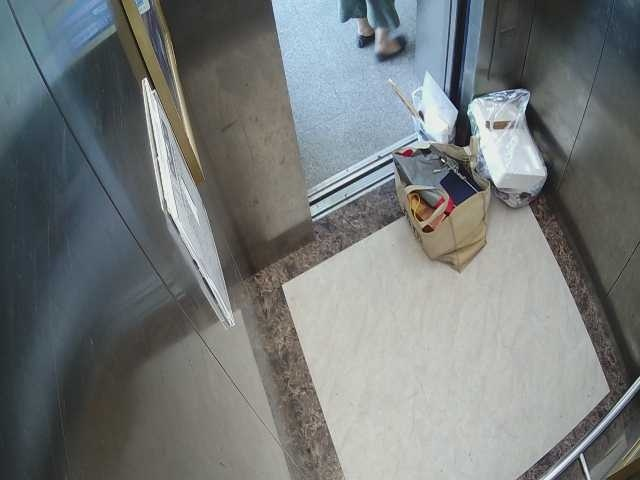bag: (387, 135, 493, 262)
